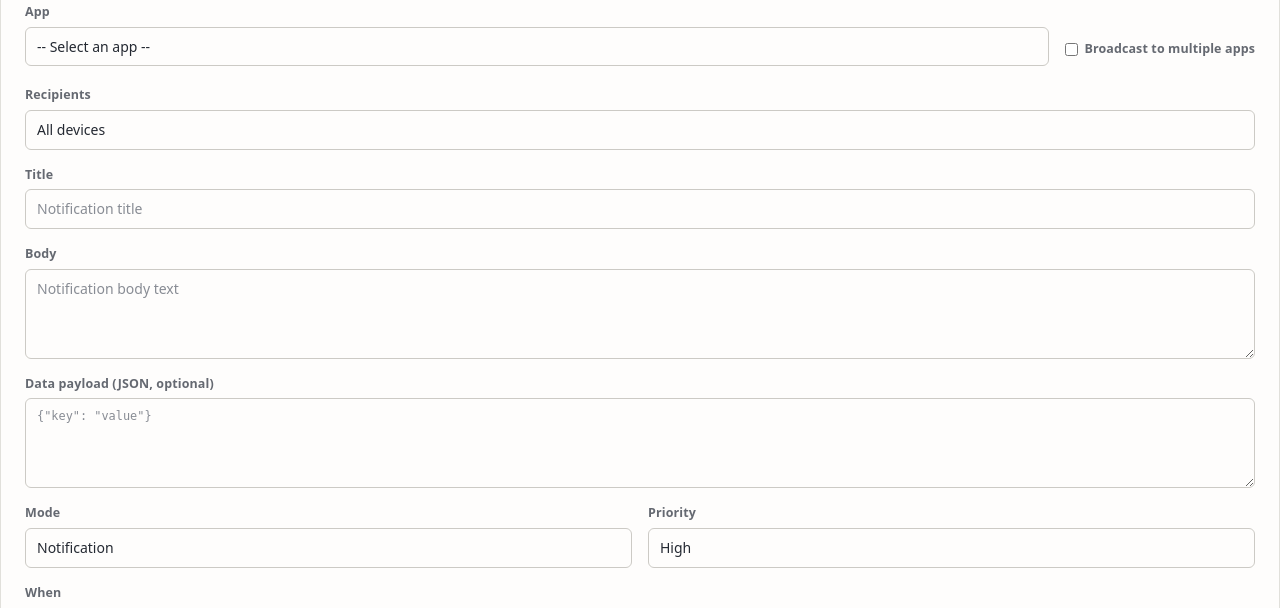
Test case: send page › enables send button after preview
Type "Hello World" into the field with test id "send-title" at point(640, 209), box 25,189 -> 1255,229
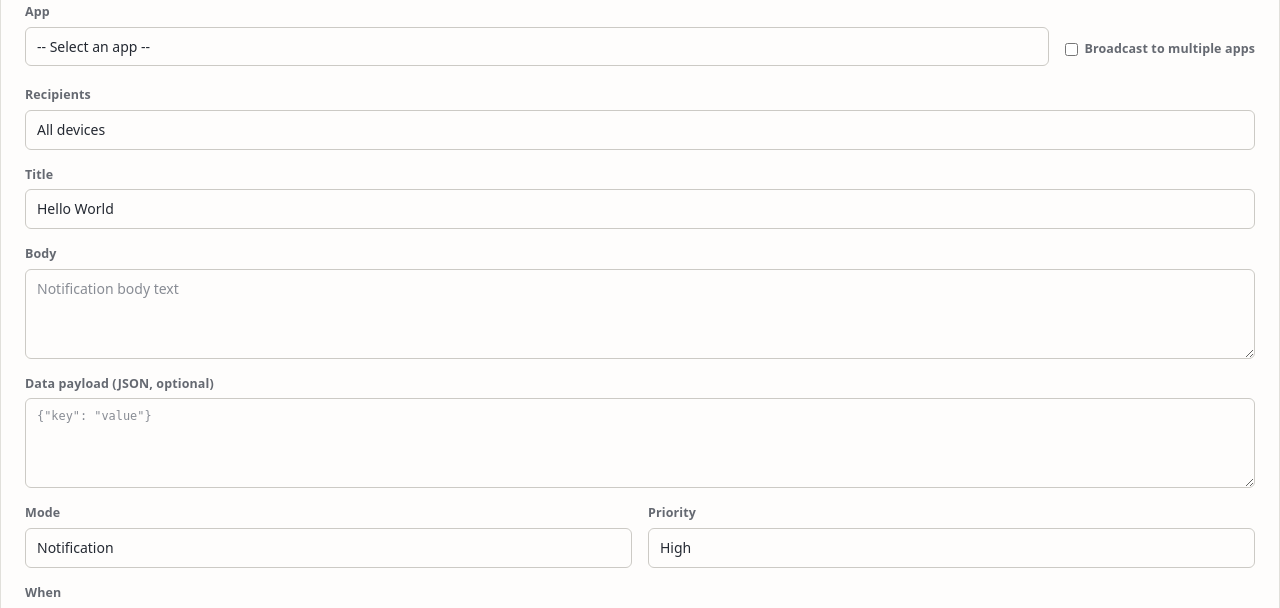
Type "Test body" into the text box with test id "send-body" at point(640, 314), box 25,269 -> 1255,359
(page scrolled)
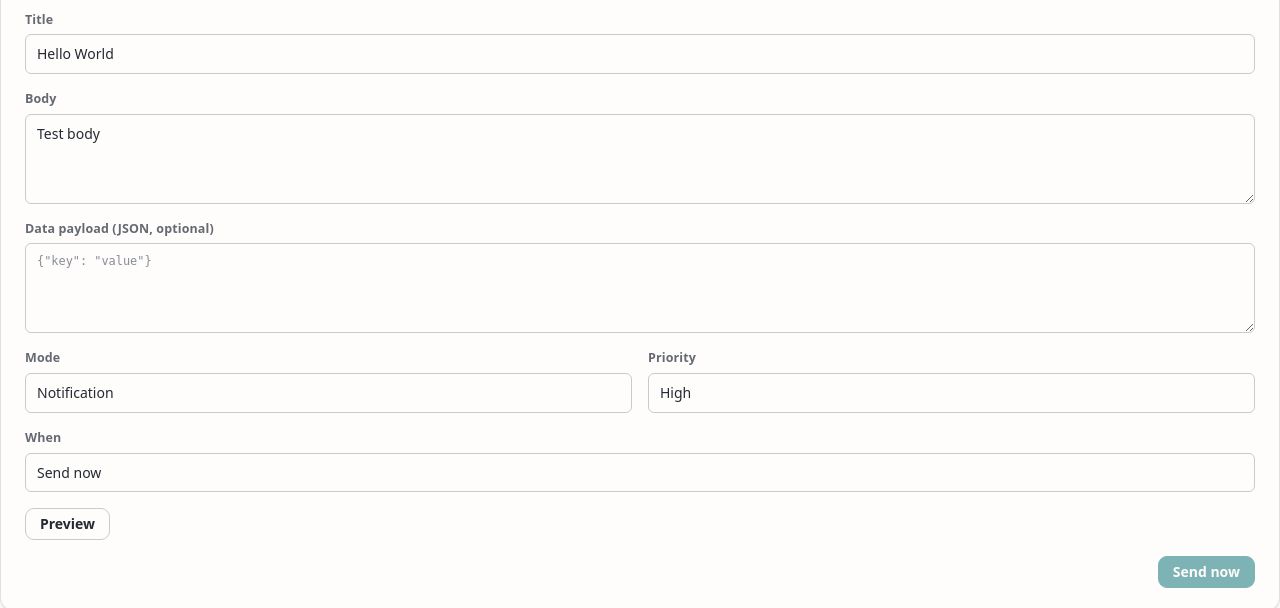
Click the button with test id "preview-btn" at point(68, 524), box 25,508 -> 110,540
(page scrolled)
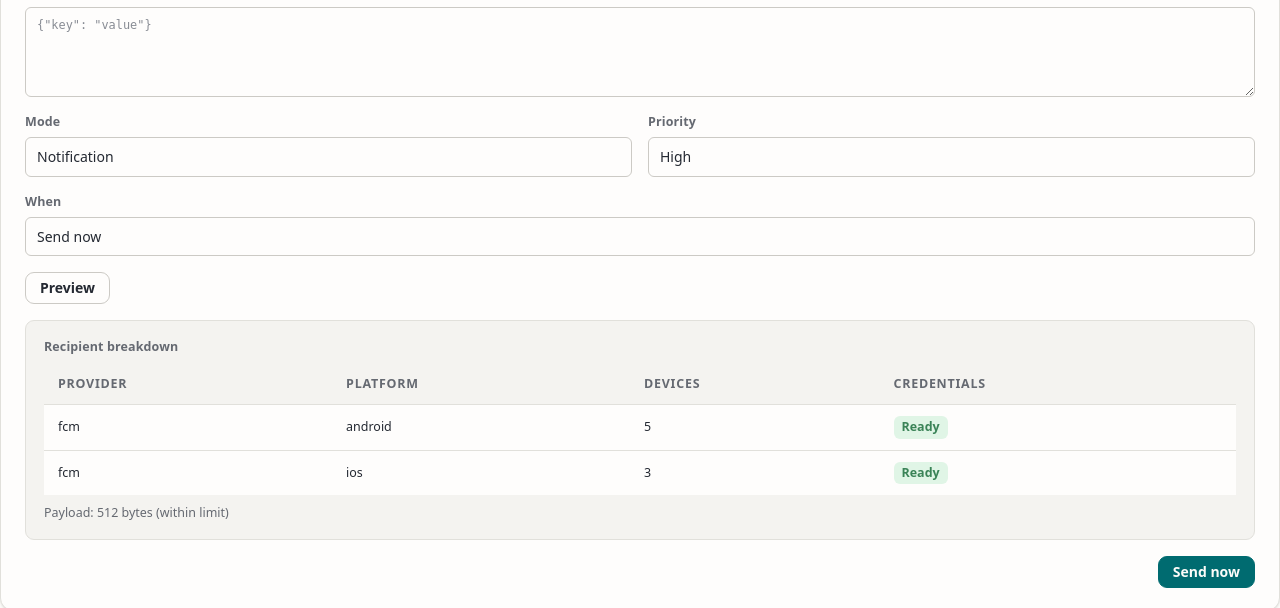
Result: the button with test id "send-submit" is enabled at 1158,556 -> 1255,588
